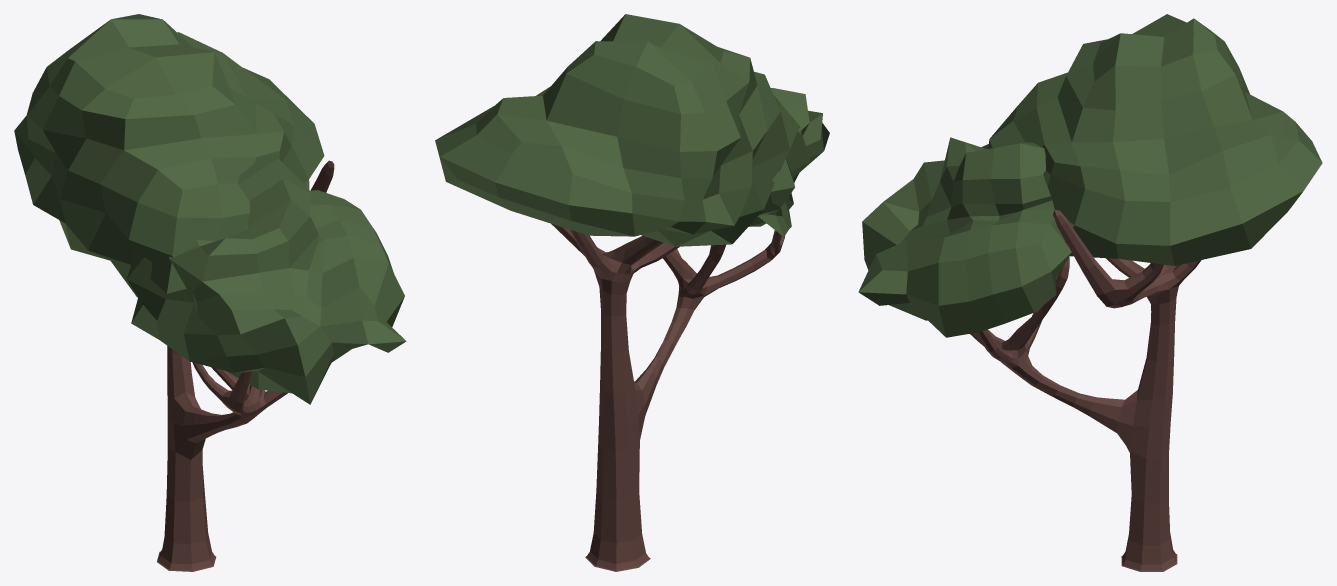
The model's file is CommonTree_2.glb.
3 renders of one model, left to right at view 1: azimuth 30°, elevation 25°; view 2: azimuth 150°, elevation 25°; view 3: azimuth 270°, elevation 25°, orthographic. The views are drawn at different scales.
Parts seen in each view (by area): view 1: CommonTree_2; view 2: CommonTree_2; view 3: CommonTree_2.
Boxes of the visible parts, x1,y1,x2,y2 form: CommonTree_2: (14, 14, 406, 571); CommonTree_2: (435, 14, 829, 571); CommonTree_2: (858, 14, 1322, 571).
Bounding box in the file's own units: 1.66 × 3.12 × 2.54.
